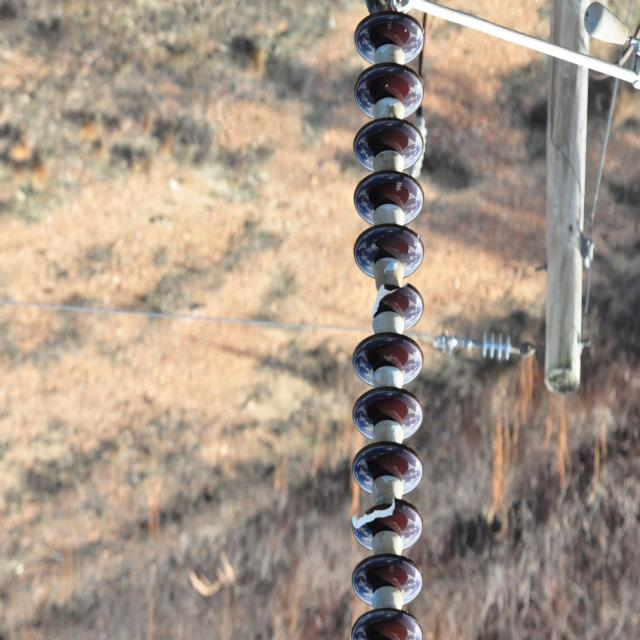broken: (369, 278, 414, 322), (352, 494, 399, 531)
insulator: (348, 11, 423, 639)
